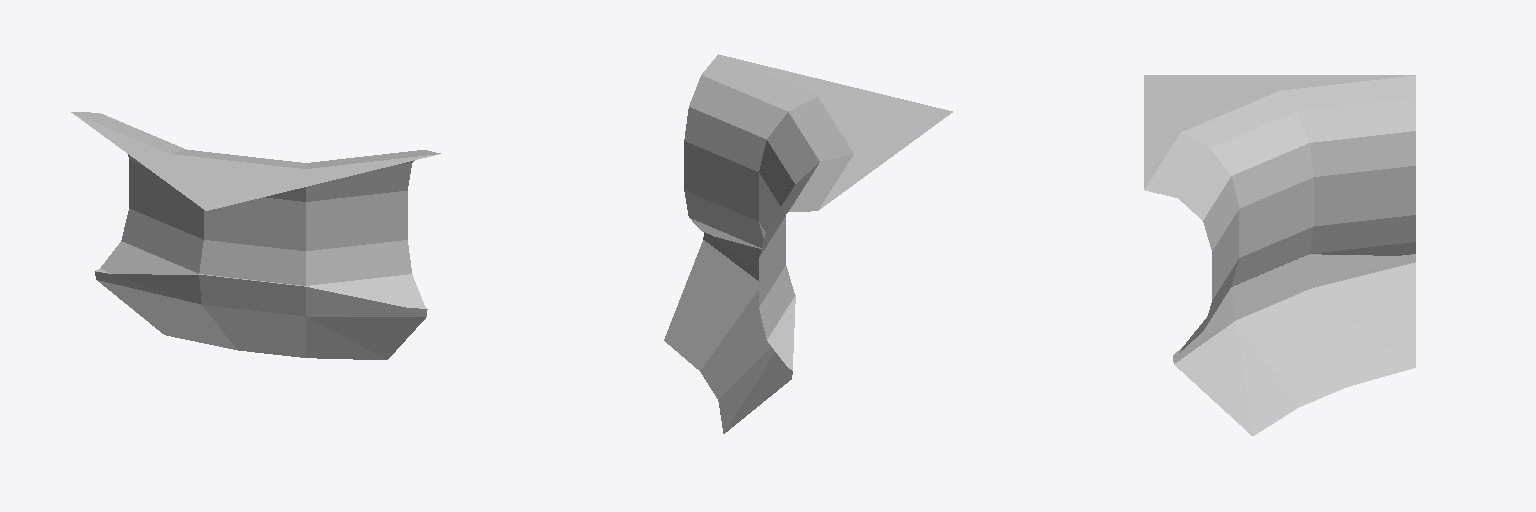
File: Terrain_Cliff_1_Tall_Corner_Inner_1x1.obj
3 views of the same model, side by side, from view 1: azimuth 30°, elevation 25°; view 2: azimuth 150°, elevation 25°; view 3: azimuth 270°, elevation 25° (orthographic).
Parts seen in each view (by area): view 1: Grass, Rock; view 2: Grass, Rock; view 3: Grass, Rock.
Boxes of the visible parts, box(x1,y1,x2,y2) form: Grass: box(71, 112, 440, 308); Rock: box(95, 271, 427, 359); Grass: box(684, 54, 952, 370); Rock: box(664, 232, 792, 433); Grass: box(1144, 75, 1415, 355); Rock: box(1173, 254, 1415, 435).
Bounding box in the file's own units: 1 × 1 × 1.